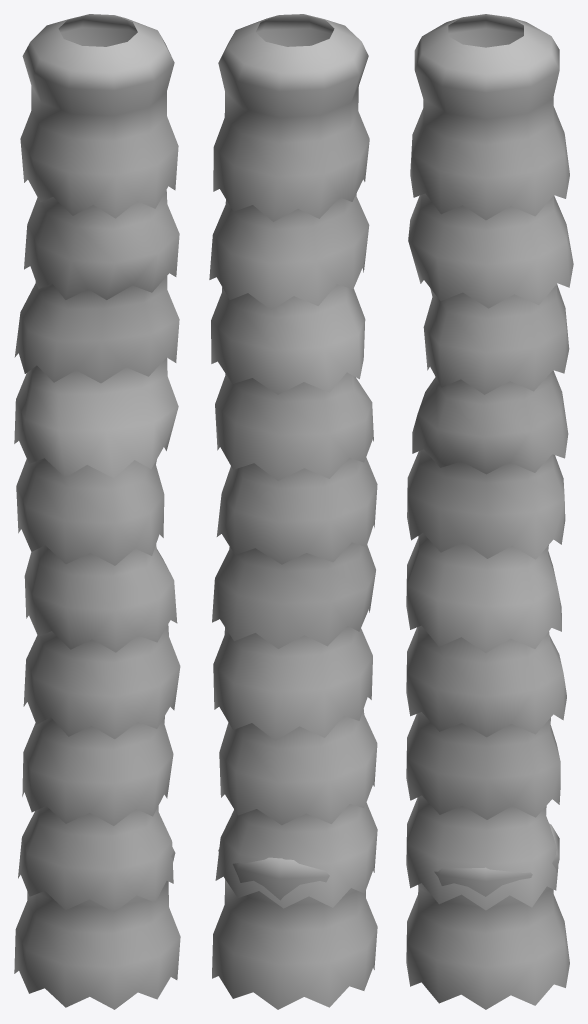
Rendered from mesh_trunk_02.fbx.
3 renders of one model, left to right at view 1: azimuth 30°, elevation 25°; view 2: azimuth 150°, elevation 25°; view 3: azimuth 270°, elevation 25°, orthographic.
Parts seen in each view (by area): view 1: polySurface76; view 2: polySurface76; view 3: polySurface76.
Part boxes in pixels (x1,y1,x2,y2): polySurface76: [14, 14, 180, 1009]; polySurface76: [209, 14, 377, 1009]; polySurface76: [406, 14, 573, 1009].
Size of the model in its own units: 0.7447 by 4.66 by 0.7473.
